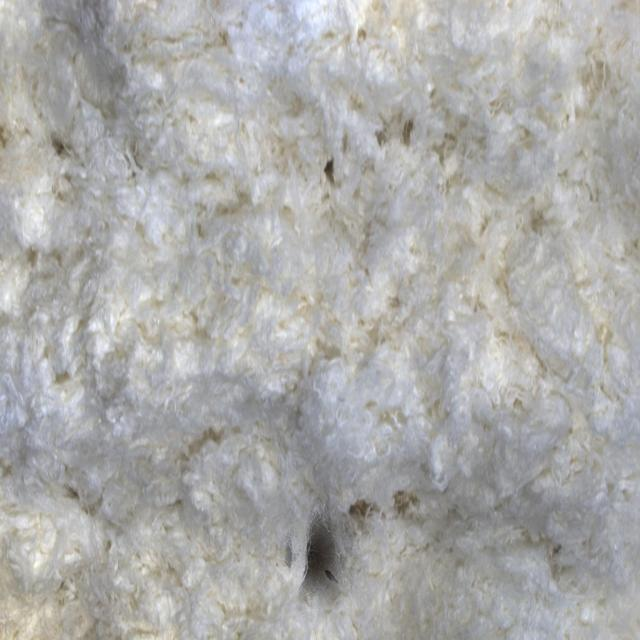dust: (262, 475, 389, 633)
